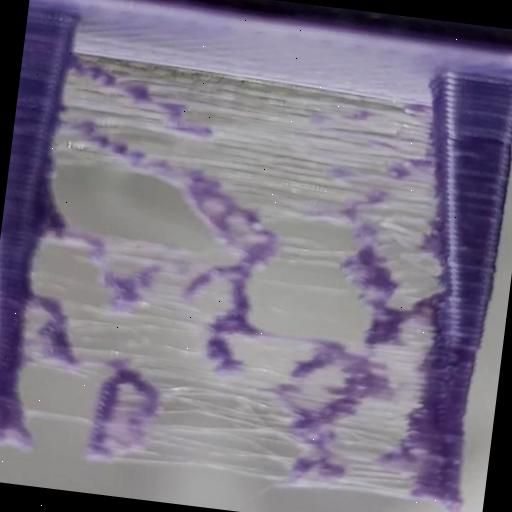stringing: (3, 40, 479, 506)
